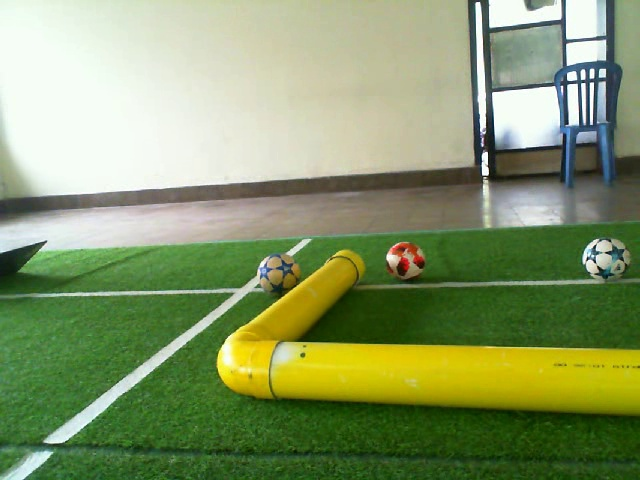ball: (581, 235, 634, 284), (256, 252, 303, 297), (384, 240, 429, 283)
